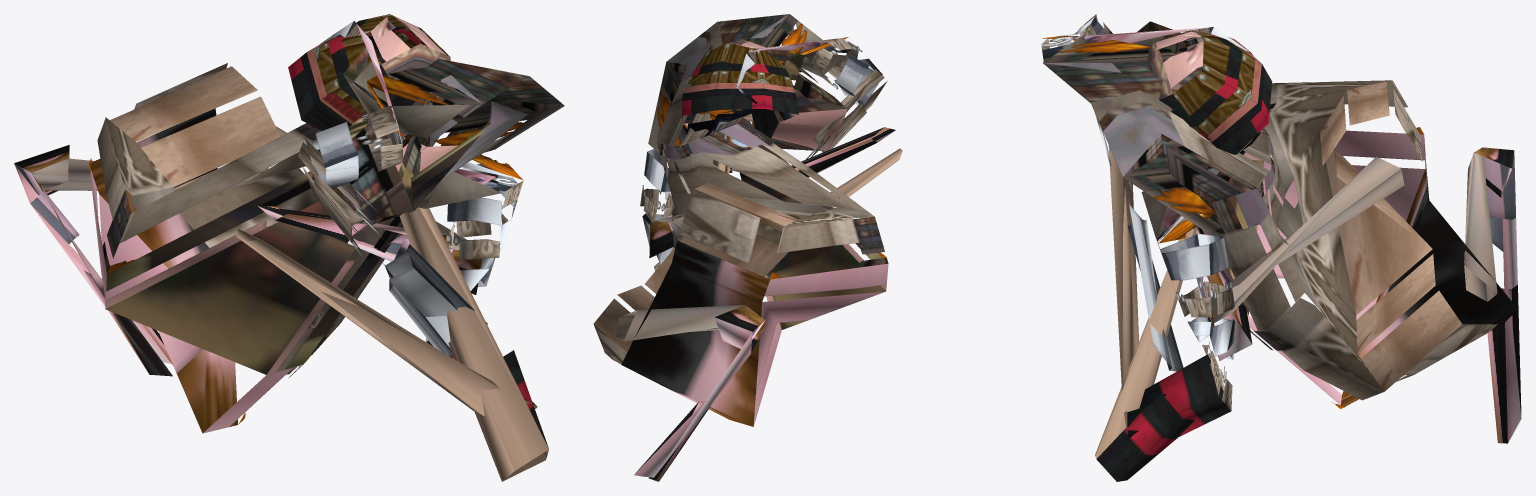
3 renders of one model, left to right at view 1: azimuth 30°, elevation 25°; view 2: azimuth 150°, elevation 25°; view 3: azimuth 270°, elevation 25°, orthographic. The views are drawn at different scales.
Parts seen in each view (by area): view 1: T1L1M002_16; view 2: T1L1M002_16; view 3: T1L1M002_16.
Part boxes in pixels (<box>): T1L1M002_16: <box>14,14,564,481</box>; T1L1M002_16: <box>593,14,902,481</box>; T1L1M002_16: <box>1041,14,1521,481</box>.
Bounding box in the file's own units: 0.7048 × 0.8228 × 0.9404.
